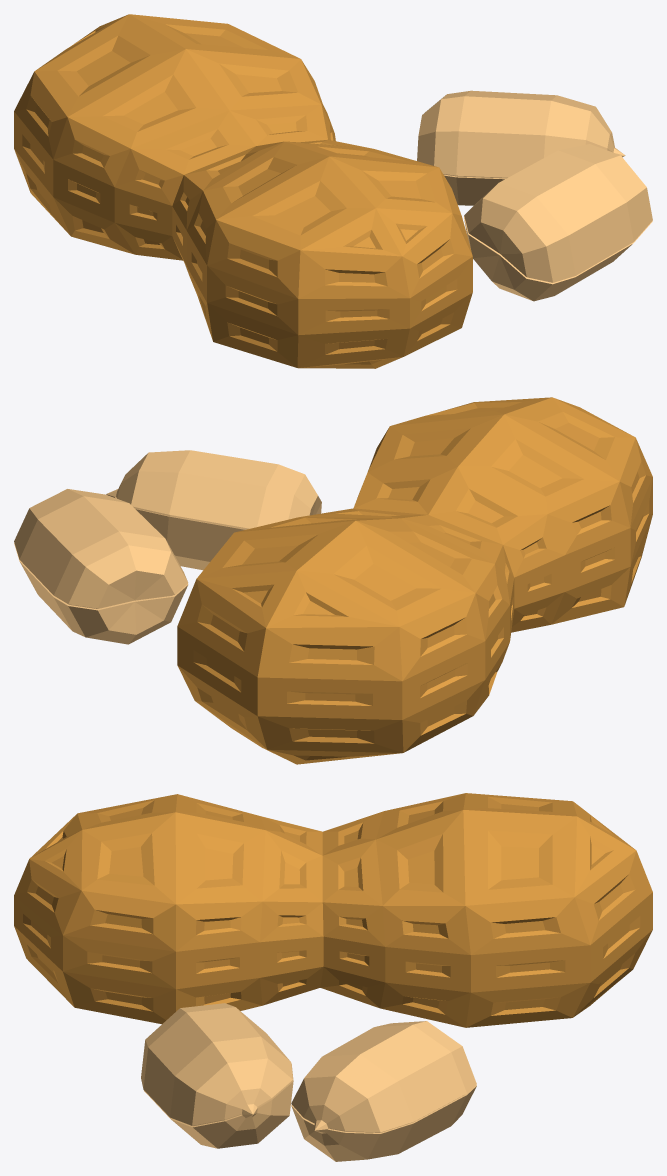
File: peanut.glb
3 views of the same model, one above another, from view 1: azimuth 30°, elevation 25°; view 2: azimuth 150°, elevation 25°; view 3: azimuth 270°, elevation 25° (orthographic). The views are drawn at different scales.
Parts seen in each view (by area): view 1: Circle.004_Circle.013; view 2: Circle.004_Circle.013; view 3: Circle.004_Circle.013.
Boxes of the visible parts, <box> form: Circle.004_Circle.013: <box>14,14,652,368</box>; Circle.004_Circle.013: <box>14,397,652,764</box>; Circle.004_Circle.013: <box>14,793,652,1161</box>.
Size of the model in its own units: 16.27 by 6.13 by 17.97.
